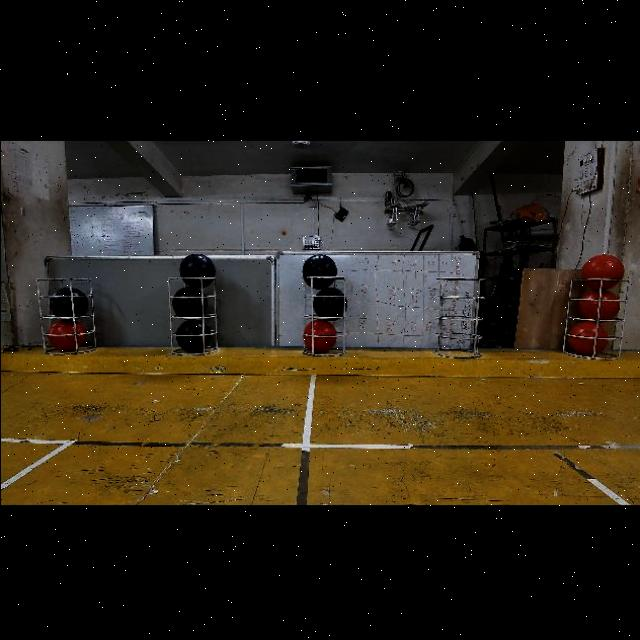P: (179, 253, 215, 289), (48, 287, 88, 318), (176, 318, 212, 352), (302, 254, 336, 289), (313, 287, 347, 319), (171, 287, 206, 317)
R: (580, 254, 623, 289), (576, 288, 619, 320), (569, 321, 609, 355), (47, 318, 85, 351), (303, 318, 336, 352)
S: (560, 277, 630, 359), (36, 274, 96, 354), (430, 276, 486, 358), (165, 274, 219, 356), (298, 274, 348, 358)
